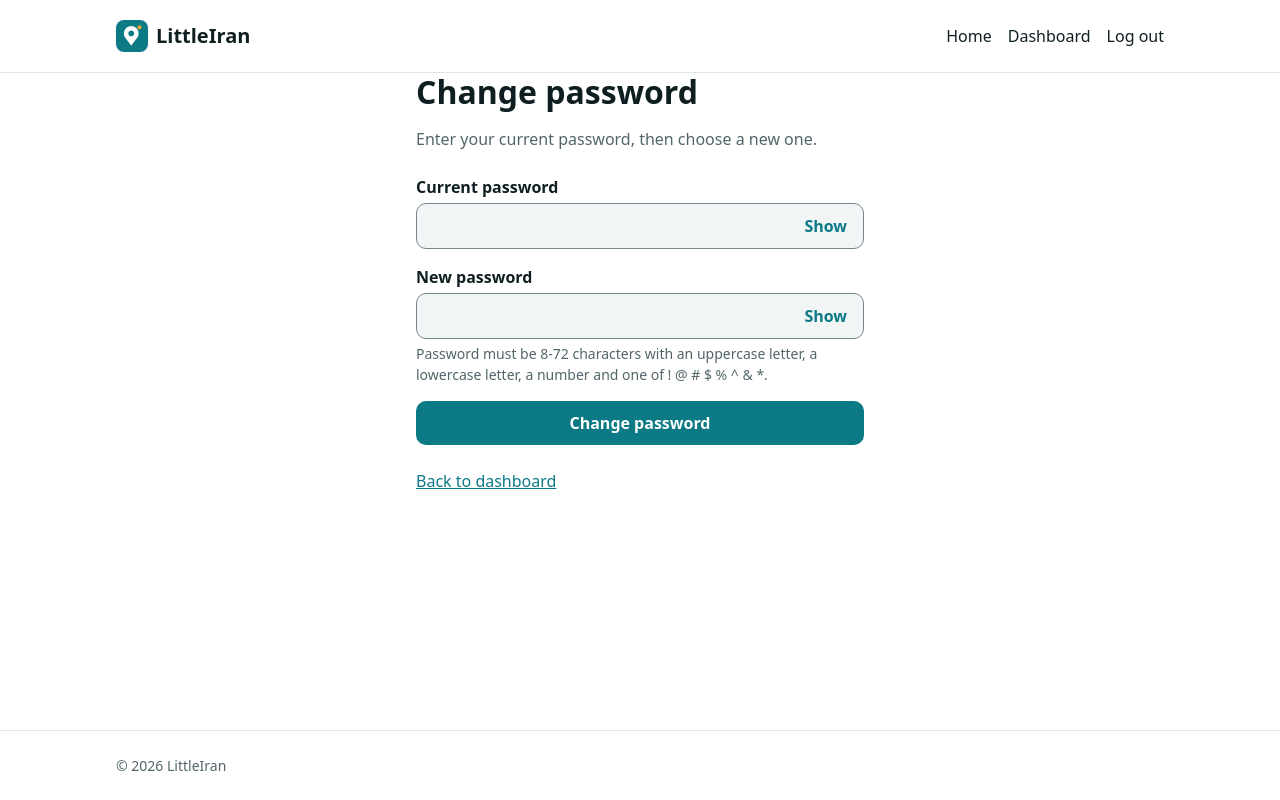
Scenario: Change password page › shows that it is working while the request is in flight
This screenshot has width=1280, height=800.
Check: the heading "Change password" is shown, box [416,70,698,113]
Type "Test123@" into the password field labelled "Current password" at (603, 226), box [417,204,788,248]
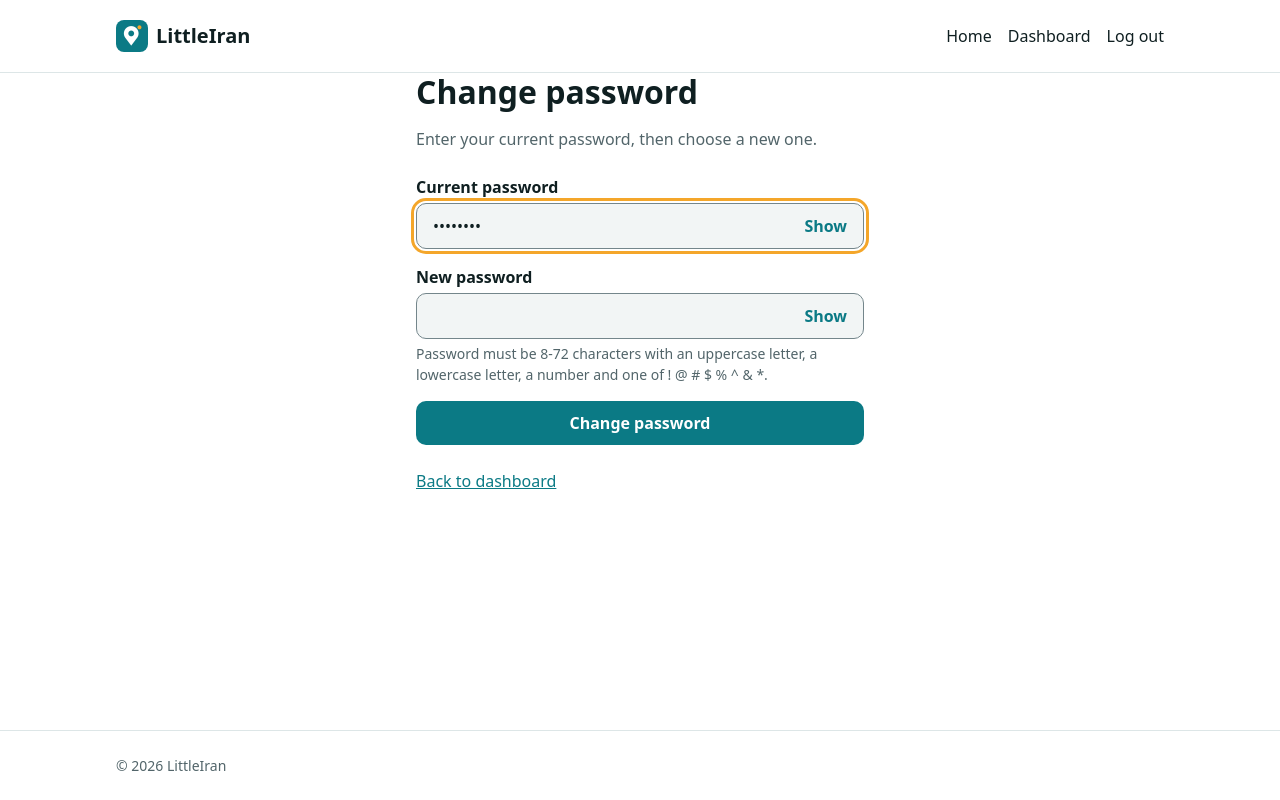
Type "NewPass1!" into the password field labelled "New password" at (603, 316), box [417,294,788,338]
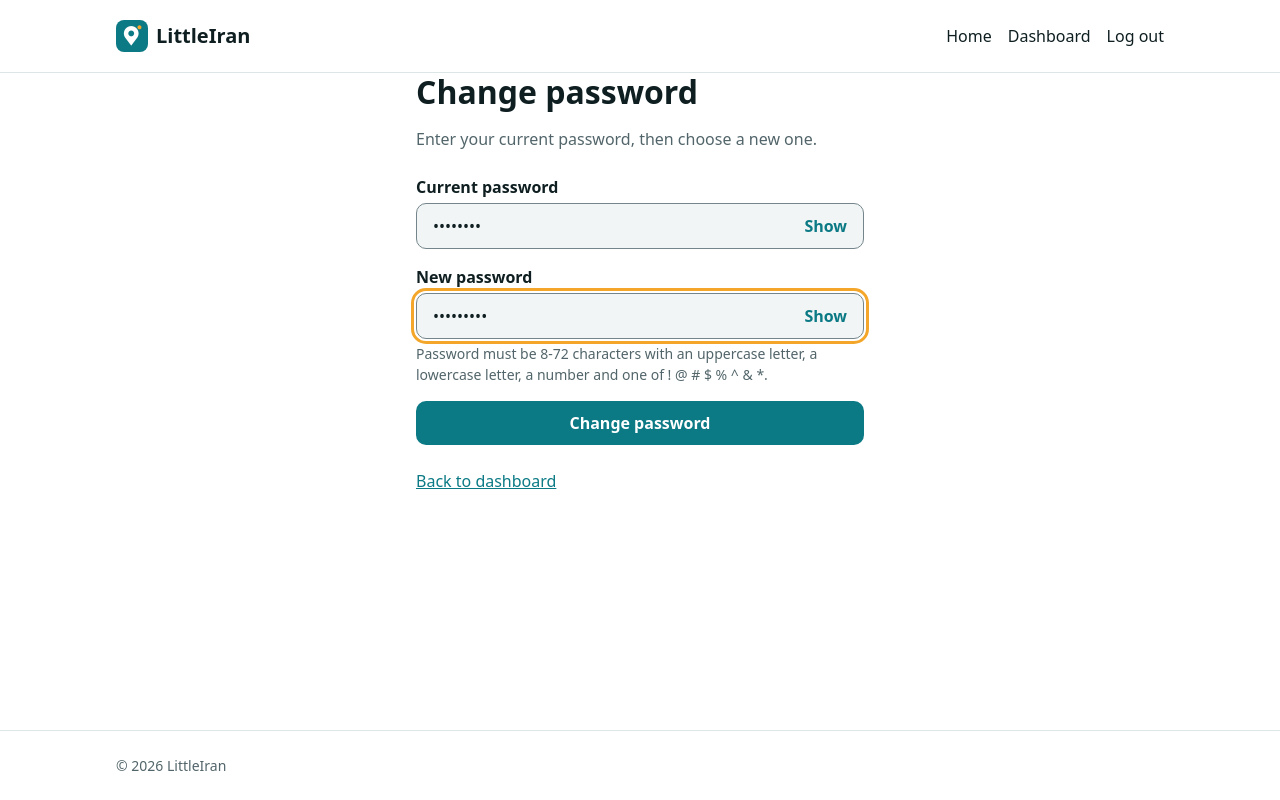
Click the button "Change password" at (640, 423), box [416,401,864,445]
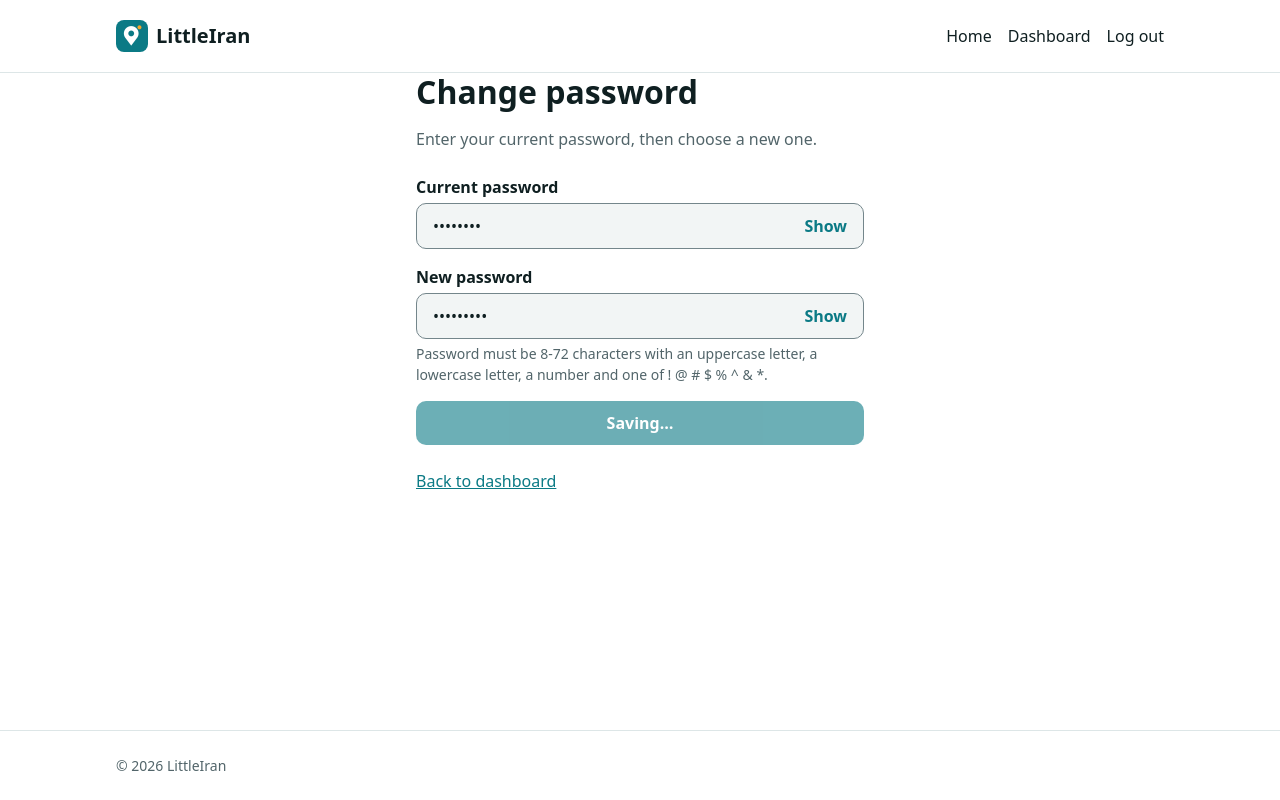
Check: the button "Saving…" is disabled, box [416,401,864,445]
